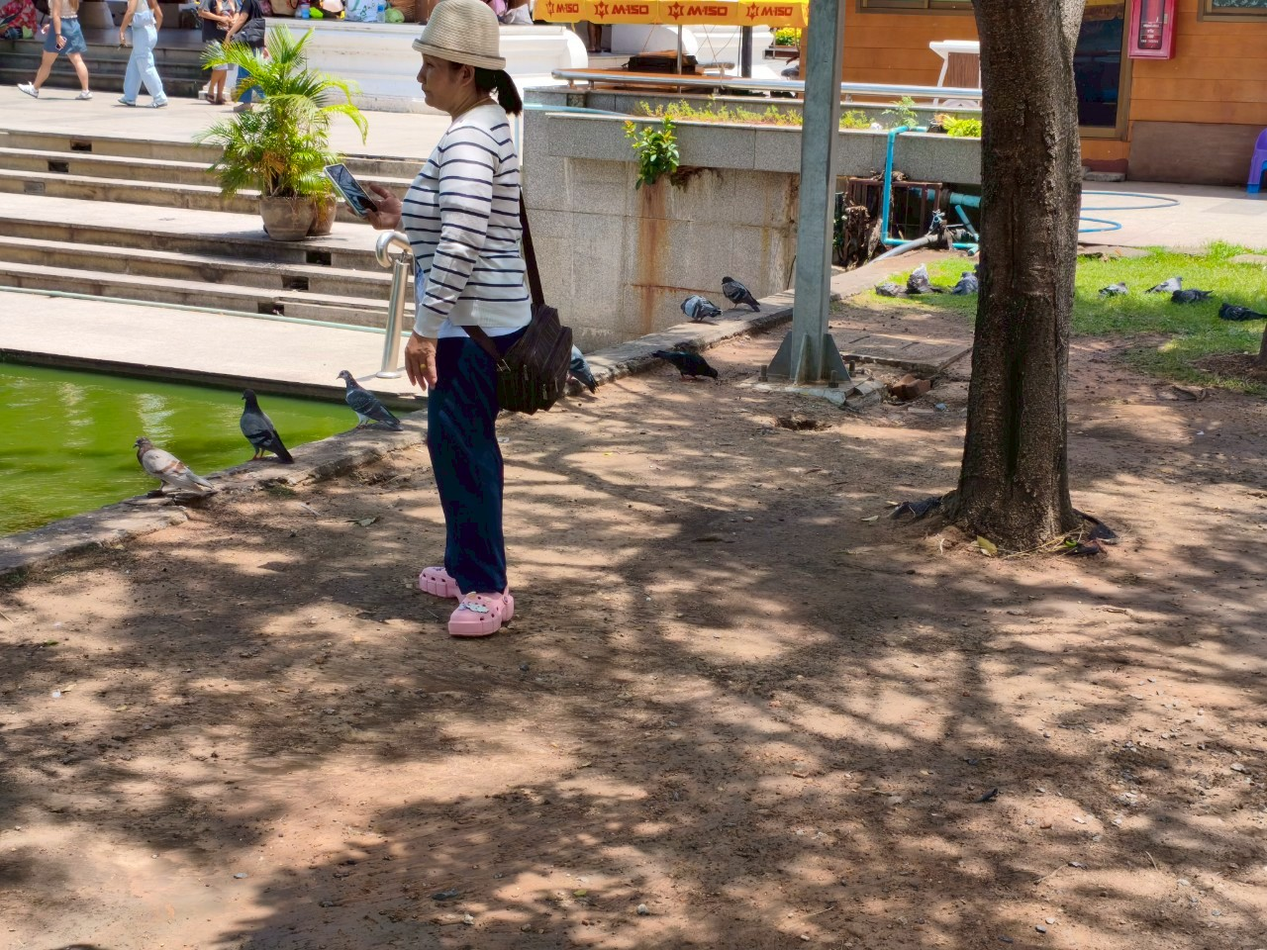Pigeon: (129, 436, 214, 498), (336, 369, 403, 432), (240, 388, 293, 465), (652, 349, 718, 379), (569, 343, 598, 395), (722, 276, 759, 312), (680, 295, 721, 322), (1218, 302, 1266, 321), (907, 264, 931, 293), (950, 271, 978, 295), (1149, 276, 1182, 293), (1171, 290, 1213, 303), (875, 281, 905, 296), (1099, 282, 1128, 297)
